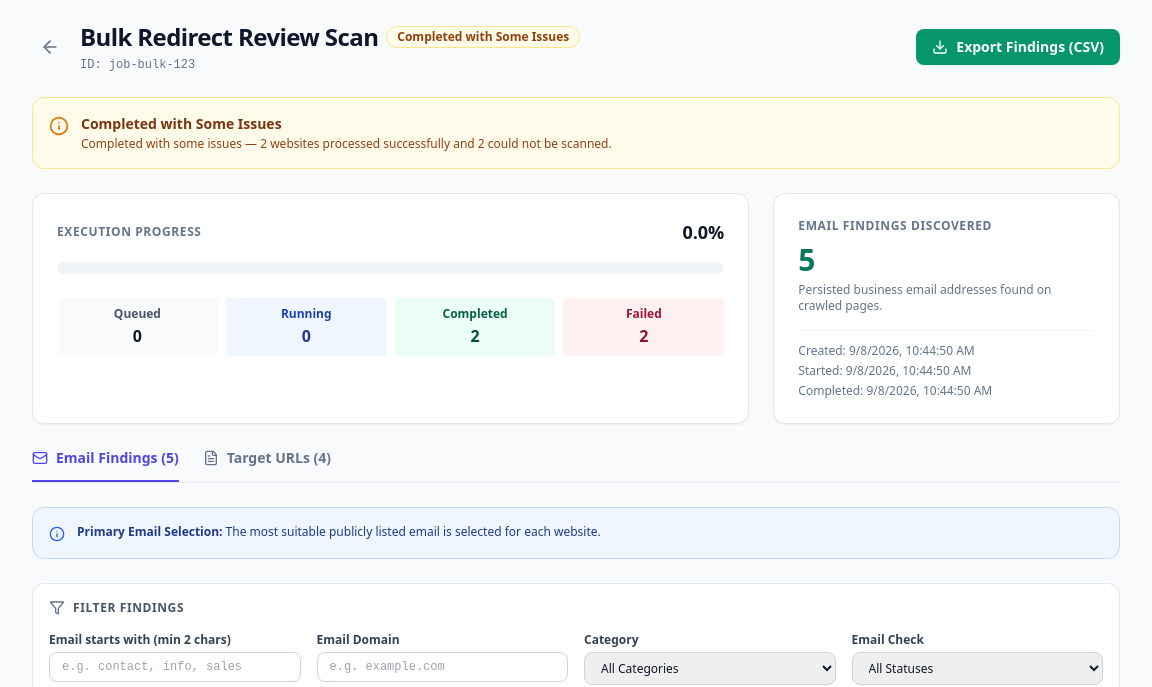
Bulk Redirect Review Web UI › uses accurate header checkbox label "Select all loaded pending redirects" and toggles loaded items
expect the text "Target URLs (4)" is shown: met, box [227,448,331,468]
Click the button "Target URLs (4)" at {"x": 267, "y": 465}, box [203,448,331,482]
(page scrolled)
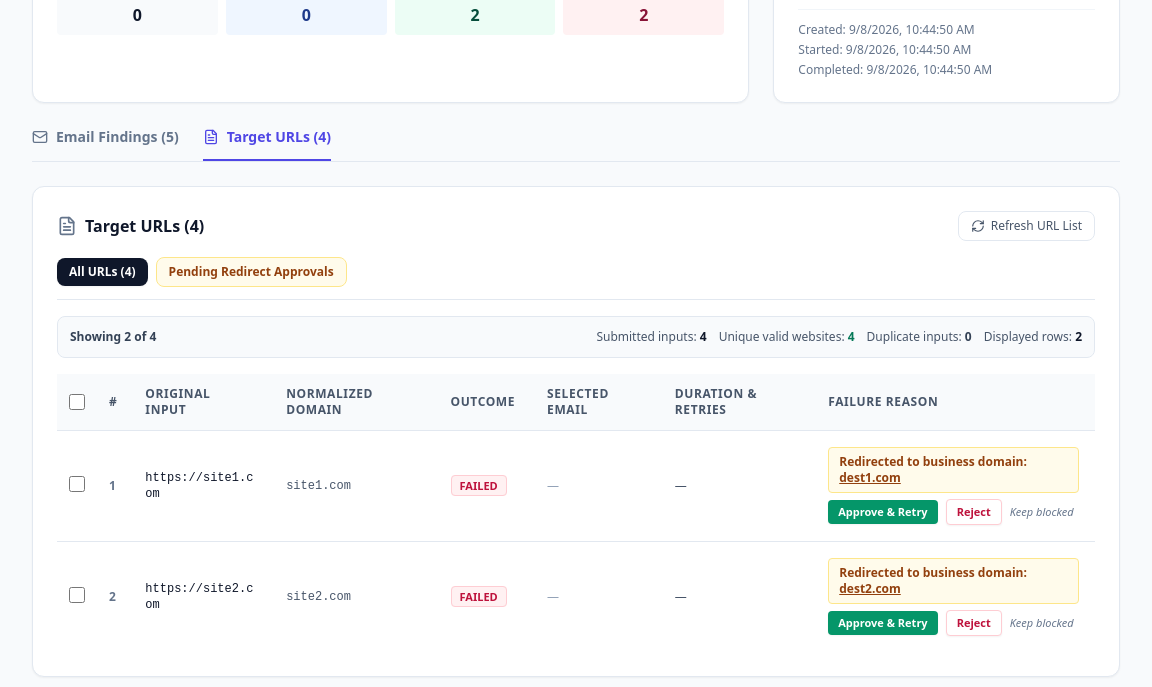
expect the checkbox titled "Select all loaded pending redirects" is shown: met
// Click to select all loaded pending redirects
Click the checkbox titled "Select all loaded pending redirects" at {"x": 77, "y": 402}, box [69,394,85,410]
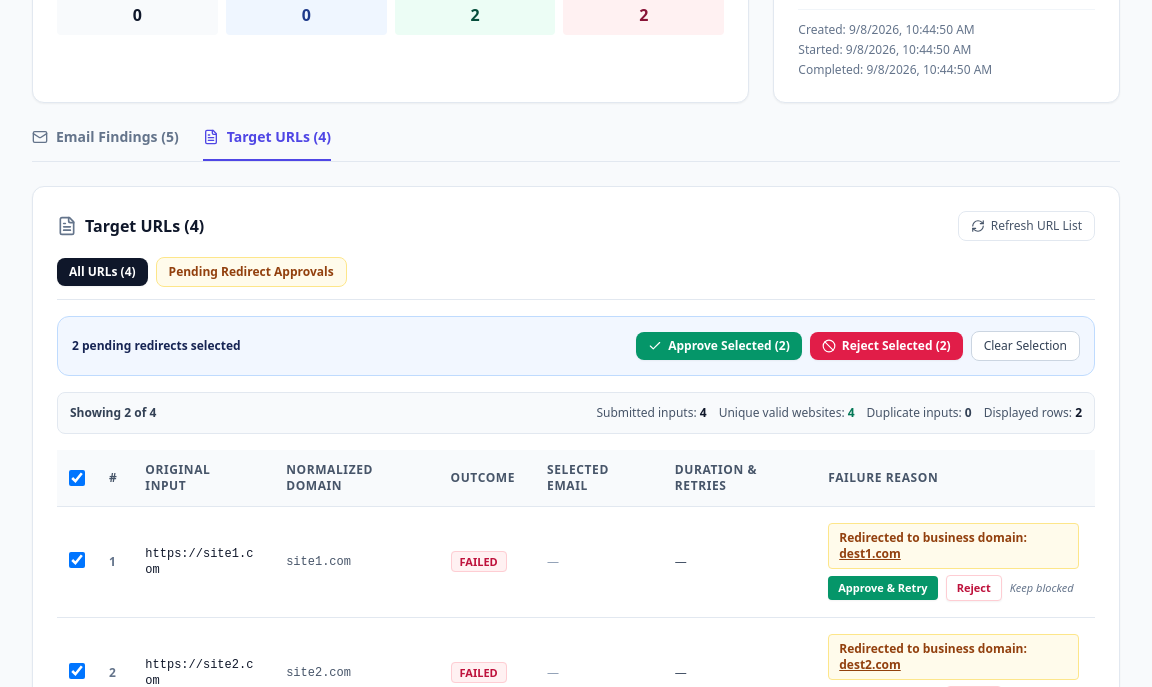
expect the text "2 pending redirects selected" is shown: met, box [72,338,241,354]
expect the button "Approve Selected (2)" is shown: met, box [636,332,802,360]
expect the button "Reject Selected (2)" is shown: met, box [810,332,963,360]
// Click again to deselect
Click the checkbox titled "Select all loaded pending redirects" at {"x": 77, "y": 478}, box [69,470,85,486]
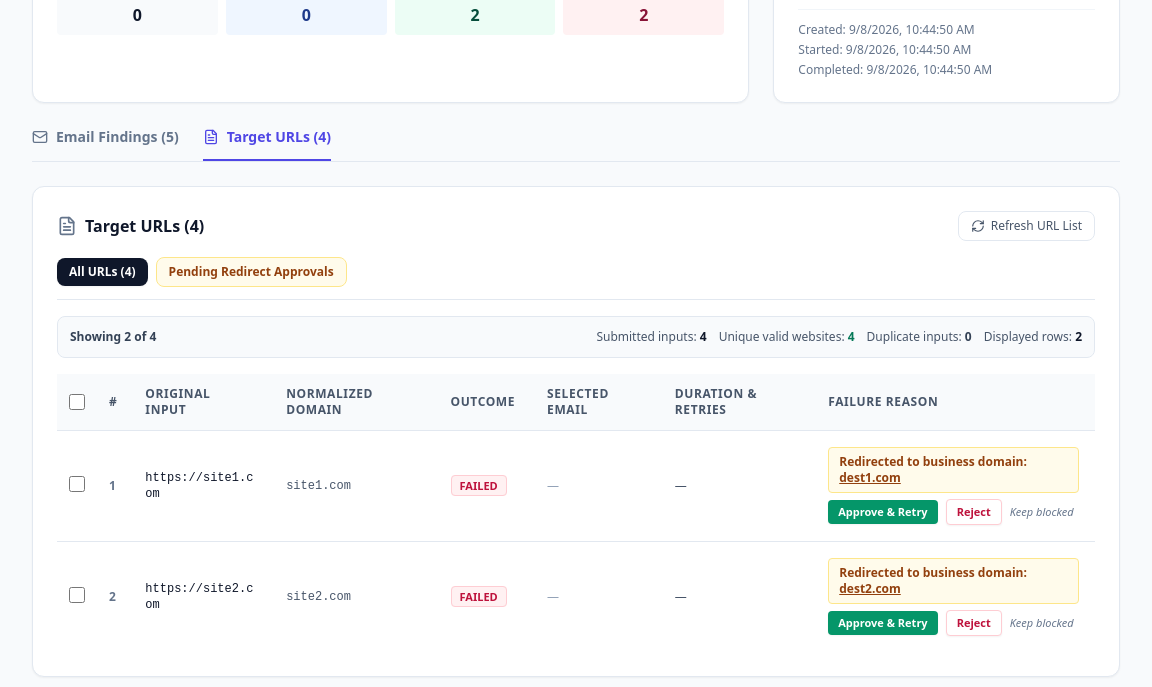
expect the text "2 pending redirects selected" is gone: met
